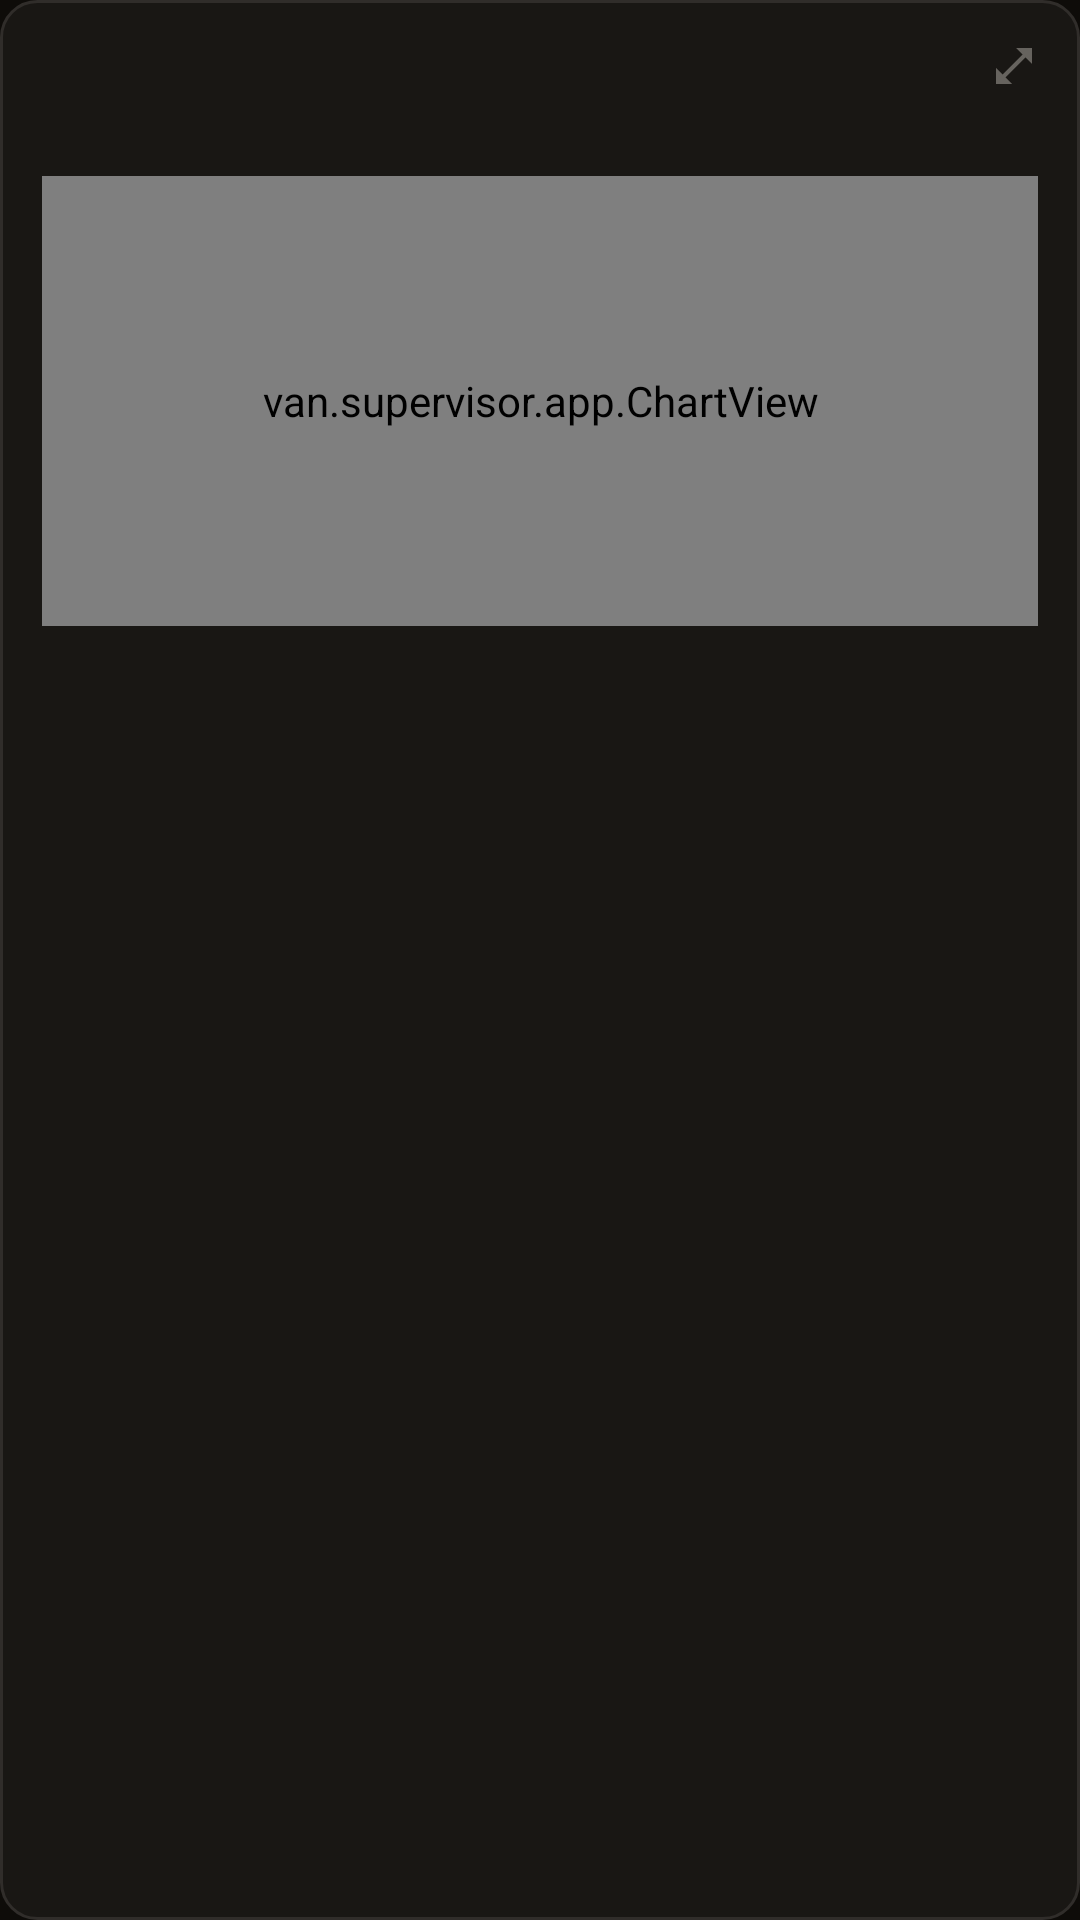

Icon click points for this 1080px×1920px phone screenshot, format [x,y]:
open full: [1014,66]
